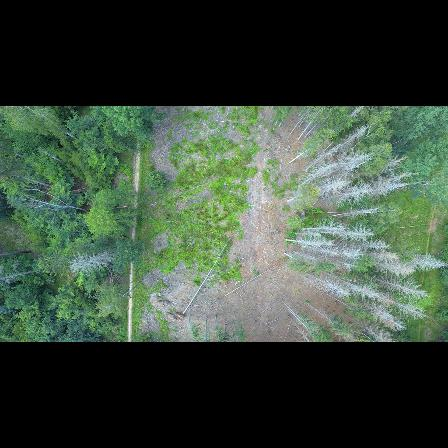Dead: (67, 248, 110, 280), (333, 122, 373, 152), (375, 294, 424, 318), (375, 257, 422, 281), (362, 307, 406, 332), (286, 232, 336, 253), (383, 274, 427, 297), (308, 270, 348, 295), (310, 244, 364, 258), (334, 206, 386, 220), (414, 251, 446, 273), (337, 185, 378, 201), (317, 177, 357, 193), (366, 182, 418, 194), (356, 298, 391, 314), (370, 245, 402, 262), (300, 219, 344, 231), (340, 226, 374, 240), (336, 157, 371, 170), (379, 161, 411, 174), (315, 164, 344, 178), (361, 238, 389, 251)
